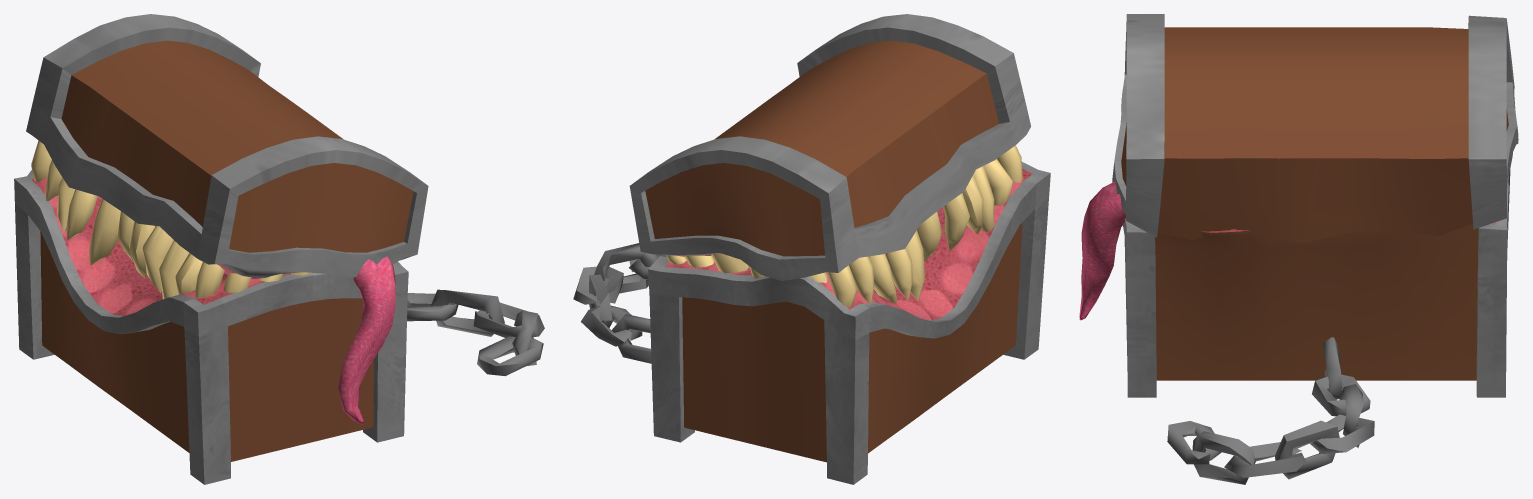
The picture shows the model from 3 angles, left to right: view 1: azimuth 30°, elevation 25°; view 2: azimuth 150°, elevation 25°; view 3: azimuth 270°, elevation 25°; orthographic projection. The views are drawn at different scales.
Visible parts, largest first — view 1: Mouth_Top_Mesh, Mouth_Bottom_Mesh, Retopo_Tongue_Mesh.002; view 2: Mouth_Top_Mesh, Mouth_Bottom_Mesh; view 3: Mouth_Top_Mesh, Mouth_Bottom_Mesh, Retopo_Tongue_Mesh.002.
Boxes of the visible parts, left/top/right/bottom form: Mouth_Top_Mesh: left=26, top=14, right=428, bottom=299; Mouth_Bottom_Mesh: left=14, top=170, right=544, bottom=484; Retopo_Tongue_Mesh.002: left=223, top=256, right=395, bottom=424; Mouth_Top_Mesh: left=629, top=14, right=1030, bottom=307; Mouth_Bottom_Mesh: left=573, top=162, right=1050, bottom=484; Mouth_Top_Mesh: left=1112, top=14, right=1518, bottom=243; Mouth_Bottom_Mesh: left=1123, top=153, right=1512, bottom=484; Retopo_Tongue_Mesh.002: left=1079, top=181, right=1125, bottom=320.
Size of what is drawn, in the model's own units: 4.52 by 3.2 by 4.07.
6 materials, 3 textured.
